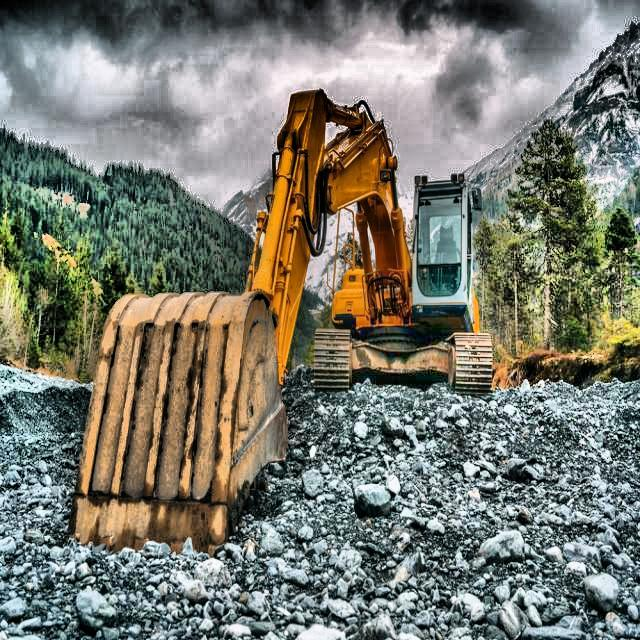excavator: (69, 87, 496, 558)
